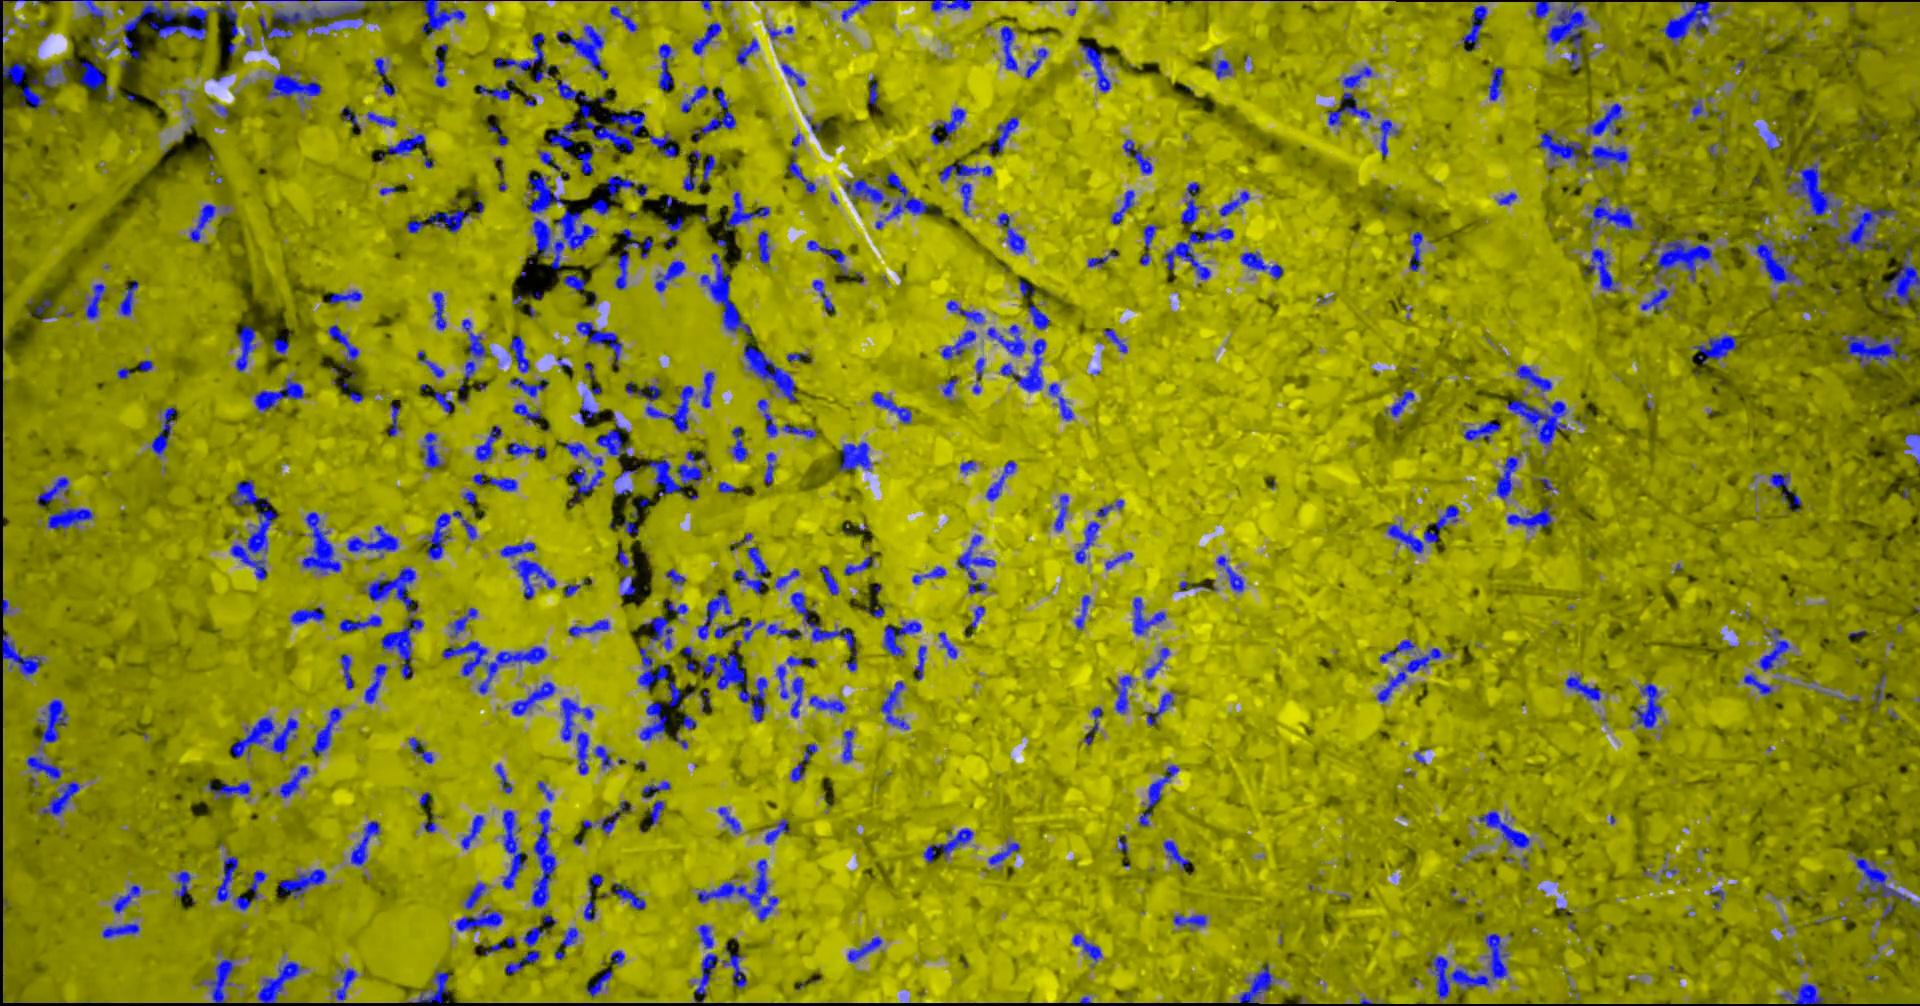ant: (790, 592, 856, 671), (645, 371, 714, 431), (1162, 227, 1233, 279), (1377, 647, 1441, 702), (1385, 504, 1458, 553), (1854, 856, 1919, 907), (692, 942, 745, 1002), (681, 84, 735, 141), (743, 342, 795, 401), (494, 32, 550, 83), (556, 24, 607, 79), (563, 442, 604, 506), (648, 450, 705, 495), (1138, 765, 1178, 826), (1876, 248, 1919, 305), (427, 509, 476, 559), (301, 511, 340, 573), (1658, 0, 1713, 44), (1001, 338, 1045, 391), (956, 533, 996, 593), (615, 227, 651, 290), (883, 171, 928, 220), (577, 321, 622, 366), (0, 627, 42, 676), (257, 960, 301, 1005), (1754, 238, 1797, 283), (504, 925, 543, 974), (1478, 810, 1529, 847), (731, 546, 770, 594), (502, 809, 524, 889), (414, 0, 465, 36), (723, 191, 770, 229), (1583, 196, 1633, 231), (696, 589, 731, 639), (512, 559, 555, 600), (267, 71, 321, 103), (345, 525, 397, 558), (775, 655, 803, 716), (923, 828, 973, 862), (254, 377, 303, 410), (596, 419, 631, 465), (37, 699, 67, 749), (276, 868, 326, 898), (527, 171, 564, 213), (1582, 248, 1618, 291), (510, 681, 555, 715), (879, 680, 908, 729), (806, 240, 847, 276), (461, 319, 485, 379), (406, 970, 448, 1005), (1079, 44, 1110, 91), (311, 708, 342, 754), (1327, 91, 1370, 124), (560, 697, 593, 741), (202, 958, 234, 1002), (1757, 627, 1789, 671), (883, 620, 921, 655), (637, 647, 668, 690), (41, 781, 79, 815), (1238, 964, 1272, 1002), (1691, 334, 1736, 363), (987, 116, 1018, 155), (871, 391, 910, 423), (350, 821, 378, 865), (785, 152, 815, 193), (985, 460, 1016, 500), (1586, 103, 1622, 137), (1634, 682, 1661, 728), (1131, 597, 1164, 634), (1239, 251, 1283, 279), (985, 324, 1025, 354), (427, 210, 477, 232), (328, 324, 358, 362), (215, 850, 237, 901), (151, 406, 174, 456), (938, 160, 990, 182), (639, 701, 667, 741), (455, 908, 502, 931), (1462, 5, 1487, 47), (547, 116, 579, 149), (940, 330, 975, 359), (643, 615, 672, 650), (997, 213, 1023, 251), (1506, 506, 1550, 528), (790, 743, 817, 781), (606, 175, 648, 199), (1074, 521, 1098, 563), (36, 476, 69, 507), (731, 616, 764, 647), (837, 442, 871, 471), (189, 203, 215, 243), (1123, 138, 1150, 174), (610, 882, 645, 909), (1495, 456, 1517, 499), (47, 507, 93, 528), (691, 22, 720, 55), (1180, 182, 1203, 224), (474, 426, 502, 460), (1145, 691, 1173, 725), (235, 324, 255, 371), (583, 873, 603, 920), (1515, 365, 1550, 391), (1217, 555, 1243, 591), (1048, 384, 1073, 420), (1780, 983, 1823, 1005), (654, 260, 684, 291), (279, 765, 309, 796), (844, 179, 883, 203), (946, 298, 984, 323), (1564, 674, 1600, 700), (206, 779, 250, 799), (364, 663, 387, 702), (77, 57, 105, 89), (71, 0, 104, 27), (847, 936, 881, 962), (25, 754, 61, 779), (1378, 639, 1415, 662), (1870, 674, 1893, 711), (1144, 647, 1170, 680), (387, 133, 425, 155), (450, 607, 477, 636), (112, 884, 140, 913), (215, 0, 237, 36), (339, 614, 381, 633), (1110, 191, 1134, 224), (1378, 119, 1399, 156), (999, 25, 1017, 70), (460, 814, 483, 848), (1385, 390, 1415, 417), (1072, 934, 1101, 960), (509, 377, 547, 398), (84, 283, 105, 319), (422, 432, 443, 467), (20, 77, 44, 109), (1218, 191, 1250, 215), (811, 279, 834, 312), (509, 335, 530, 372), (757, 399, 777, 436), (1463, 420, 1500, 441), (1140, 224, 1158, 265), (417, 351, 444, 377), (568, 619, 610, 636), (1162, 840, 1189, 868), (1112, 674, 1131, 713), (118, 279, 138, 315), (625, 381, 660, 401), (658, 43, 673, 90), (841, 0, 874, 22), (649, 131, 676, 158), (1023, 48, 1048, 77), (1083, 706, 1101, 746), (408, 737, 433, 763), (610, 6, 637, 30), (3, 56, 25, 85), (988, 842, 1018, 864), (808, 695, 844, 713), (676, 714, 695, 748), (940, 108, 965, 133), (843, 555, 875, 575), (585, 970, 611, 996), (1641, 287, 1669, 310), (1769, 473, 1792, 500), (335, 968, 356, 998), (1103, 328, 1128, 353), (735, 38, 758, 65), (463, 882, 485, 909), (505, 442, 545, 457), (1342, 66, 1371, 86), (245, 870, 265, 899), (290, 606, 325, 622), (766, 622, 801, 639), (764, 819, 789, 843), (717, 807, 740, 832), (512, 403, 540, 423), (1743, 673, 1771, 694), (1487, 66, 1503, 100), (1053, 494, 1068, 531), (102, 922, 138, 937), (819, 565, 838, 594), (781, 64, 805, 86), (432, 291, 446, 330), (912, 567, 945, 583), (477, 84, 513, 99), (1087, 248, 1117, 265), (731, 426, 747, 461), (499, 542, 535, 558), (434, 44, 447, 86), (569, 150, 592, 173), (1074, 594, 1090, 629), (428, 390, 452, 412), (1029, 304, 1049, 329), (1410, 231, 1422, 271), (1103, 551, 1131, 569), (563, 274, 585, 296), (28, 293, 51, 315), (577, 730, 588, 774), (775, 568, 799, 588), (641, 781, 670, 798), (930, 0, 971, 11), (782, 424, 817, 438), (1096, 499, 1123, 517), (938, 631, 956, 658), (43, 66, 66, 86), (366, 111, 396, 126), (578, 401, 598, 424), (971, 357, 984, 392), (339, 653, 352, 688), (495, 763, 510, 793), (329, 290, 361, 304), (538, 150, 560, 170), (598, 812, 618, 833), (1208, 58, 1230, 77), (1172, 915, 1206, 927), (667, 680, 682, 708), (757, 230, 770, 263), (841, 729, 853, 762), (730, 532, 752, 551), (488, 478, 517, 492), (649, 800, 664, 827), (959, 182, 971, 213), (763, 452, 775, 486), (914, 645, 926, 680), (175, 871, 190, 897), (389, 403, 400, 436), (664, 597, 687, 614), (594, 746, 611, 768), (766, 25, 792, 39), (682, 171, 701, 191), (1531, 0, 1552, 18), (342, 105, 359, 126), (702, 154, 715, 180), (560, 927, 578, 946), (698, 923, 712, 948), (495, 158, 505, 191), (662, 215, 682, 231), (970, 605, 984, 627), (406, 216, 425, 232), (631, 498, 648, 517), (665, 568, 684, 584), (805, 116, 822, 133), (590, 198, 610, 213), (942, 377, 957, 396), (620, 575, 635, 594), (537, 781, 552, 800), (617, 520, 637, 533), (618, 550, 635, 567), (270, 338, 288, 353), (1018, 279, 1035, 295), (1768, 131, 1782, 149), (1787, 493, 1801, 511), (712, 624, 730, 638), (232, 895, 250, 909), (1497, 192, 1516, 205), (1903, 433, 1919, 448), (563, 583, 580, 596), (423, 814, 436, 832), (869, 83, 877, 107), (959, 460, 975, 473), (462, 490, 475, 507), (1691, 99, 1703, 117), (865, 607, 884, 617), (786, 352, 808, 361), (610, 950, 623, 963), (375, 57, 385, 74), (717, 481, 734, 492), (1117, 835, 1128, 851), (382, 83, 395, 95), (138, 359, 152, 371), (116, 367, 130, 379), (348, 391, 363, 401), (0, 600, 9, 615)
